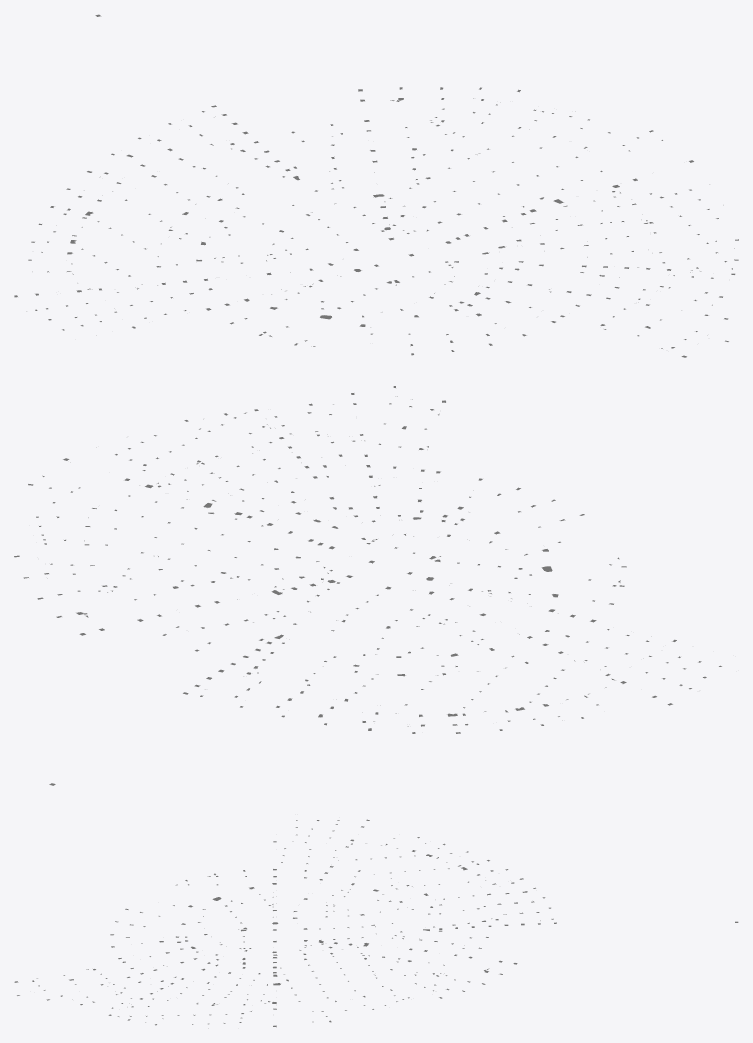
The model's file is city_3d_model_1.glb.
The picture shows the model from 3 angles, top to bottom: view 1: azimuth 30°, elevation 25°; view 2: azimuth 150°, elevation 25°; view 3: azimuth 270°, elevation 25°; orthographic projection. The views are drawn at different scales.
Visible parts, largest first — view 1: Object_320; view 2: Object_320; view 3: Object_320.
Part boxes in pixels (x1,y1,x2,y2): Object_320: (14,14,738,357); Object_320: (14,386,721,785); Object_320: (14,819,738,1028).
Bounding box in the file's own units: 762 × 41.99 × 993.
Materials: 1 (1 with a texture image).
